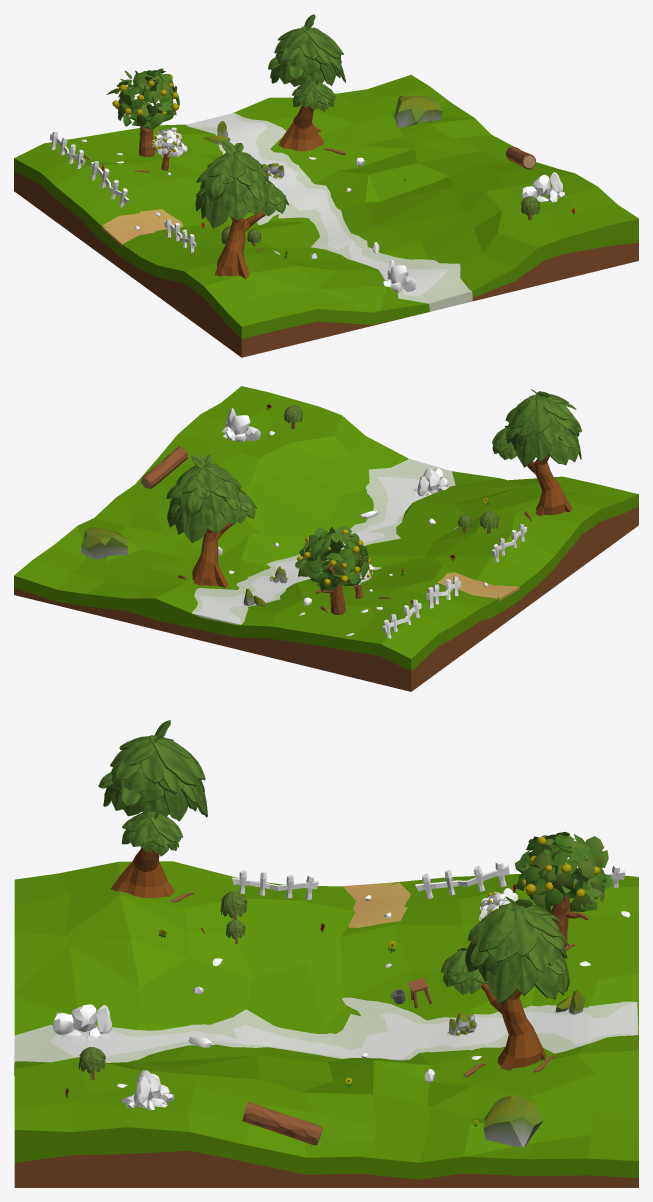
Rendered from RioBrumas.fbx.
3 views of the same model, one above another, from view 1: azimuth 30°, elevation 25°; view 2: azimuth 150°, elevation 25°; view 3: azimuth 270°, elevation 25° (orthographic). The views are drawn at different scales.
Visible parts, largest first — view 1: Water.001, Ground.002, Arvore.008, Arvore.013, Arvore.010, PedrasUnidadesMusgo.007, Arvore.009, Pedras.004, Arvore.012, Pedras.003, Cube.004, Cube.006; view 2: Water.001, Ground.002, Arvore.013, Arvore.008, Arvore.010, PedrasUnidadesMusgo.007, Arvore.009, Pedras.004, Cylinder.001, Pedras.003, Cube.006, Cube.004 (+1 smaller); view 3: Water.001, Ground.002, Arvore.013, Arvore.008, Arvore.010, PedrasUnidadesMusgo.007, Cylinder.001, Pedras.003, Pedras.004, Cube.004, Arvore.009, Cube.005.
Part boxes in pixels (x1,y1,x2,y2): Water.001: (14, 75, 638, 357); Ground.002: (186, 113, 472, 311); Arvore.008: (195, 141, 288, 278); Arvore.013: (268, 14, 345, 151); Arvore.010: (106, 68, 179, 129); PedrasUnidadesMusgo.007: (394, 95, 442, 127); Arvore.009: (112, 74, 178, 156); Pedras.004: (522, 172, 564, 202); Arvore.012: (152, 127, 183, 157); Pedras.003: (382, 260, 415, 292); Cube.004: (90, 161, 129, 207); Cube.006: (50, 132, 85, 169); Water.001: (14, 386, 638, 691); Ground.002: (192, 458, 455, 624); Arvore.013: (166, 454, 256, 587); Arvore.008: (492, 389, 581, 516); Arvore.010: (295, 526, 369, 590); PedrasUnidadesMusgo.007: (81, 527, 127, 559); Arvore.009: (297, 529, 370, 614); Pedras.004: (222, 408, 260, 441); Cylinder.001: (141, 446, 187, 488); Pedras.003: (413, 468, 449, 496); Cube.006: (382, 599, 421, 638); Cube.004: (426, 576, 460, 608); Water.001: (14, 861, 638, 1187); Ground.002: (14, 997, 638, 1076); Arvore.013: (440, 896, 569, 1070); Arvore.008: (98, 720, 207, 898); Arvore.010: (515, 831, 611, 913); PedrasUnidadesMusgo.007: (483, 1095, 543, 1146); Cylinder.001: (242, 1102, 322, 1145); Pedras.003: (52, 1004, 111, 1041); Pedras.004: (120, 1070, 174, 1110); Cube.004: (415, 861, 509, 898); Arvore.009: (522, 832, 599, 946); Cube.005: (232, 870, 318, 899).
Size of the model in its own units: 1481 by 590 by 1472.
